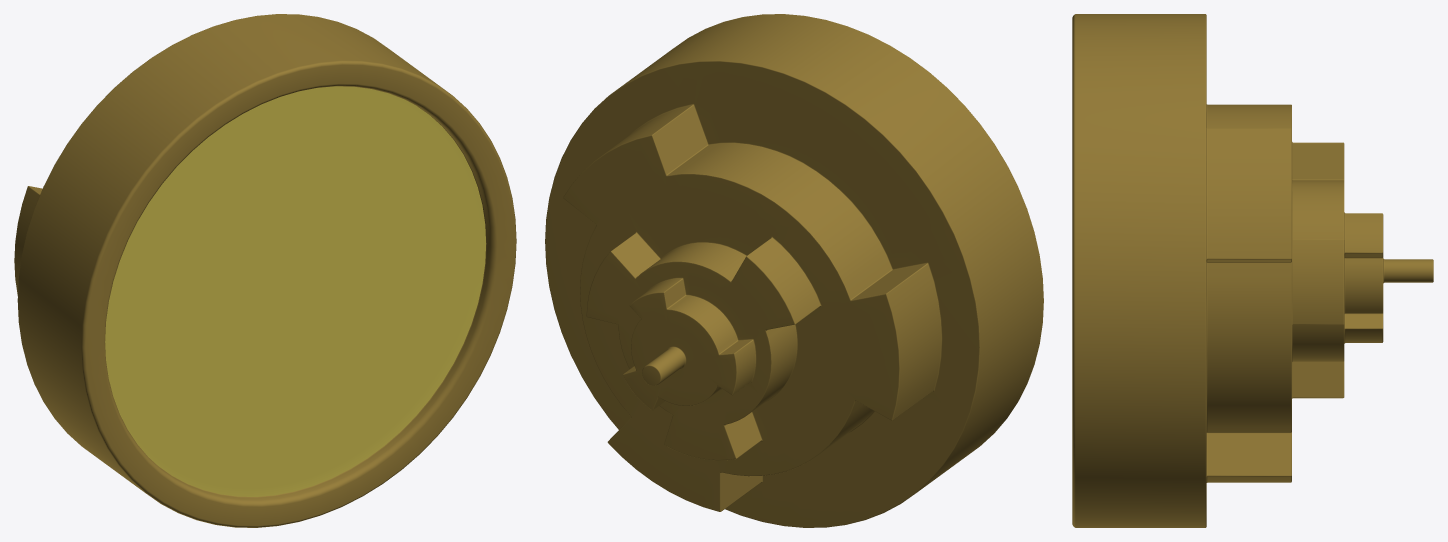
Rendered from Key.fbx.
3 renders of one model, left to right at view 1: azimuth 30°, elevation 25°; view 2: azimuth 150°, elevation 25°; view 3: azimuth 270°, elevation 25°, orthographic. The views are drawn at different scales.
Visible parts, largest first — view 1: Key_Face, Face_Body; view 2: Face_Body; view 3: Face_Body.
Part boxes in pixels (<box>): Key_Face: <box>105,86,486,496</box>; Face_Body: <box>14,14,516,527</box>; Face_Body: <box>545,14,1043,527</box>; Face_Body: <box>1072,14,1433,527</box>.
Size of the model in its own units: 33.81 by 33.81 by 23.75.
